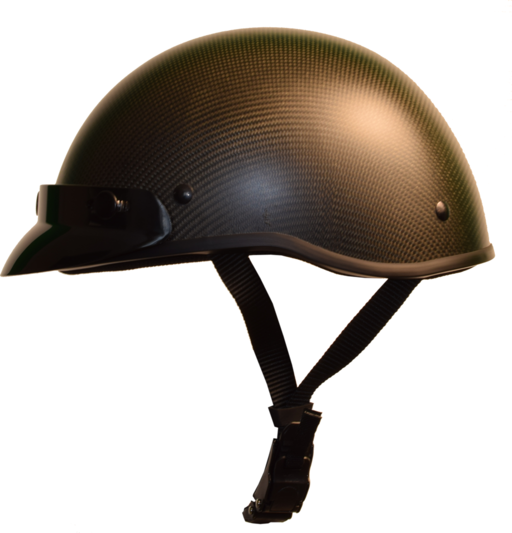with_helmet: (3, 25, 502, 296)
